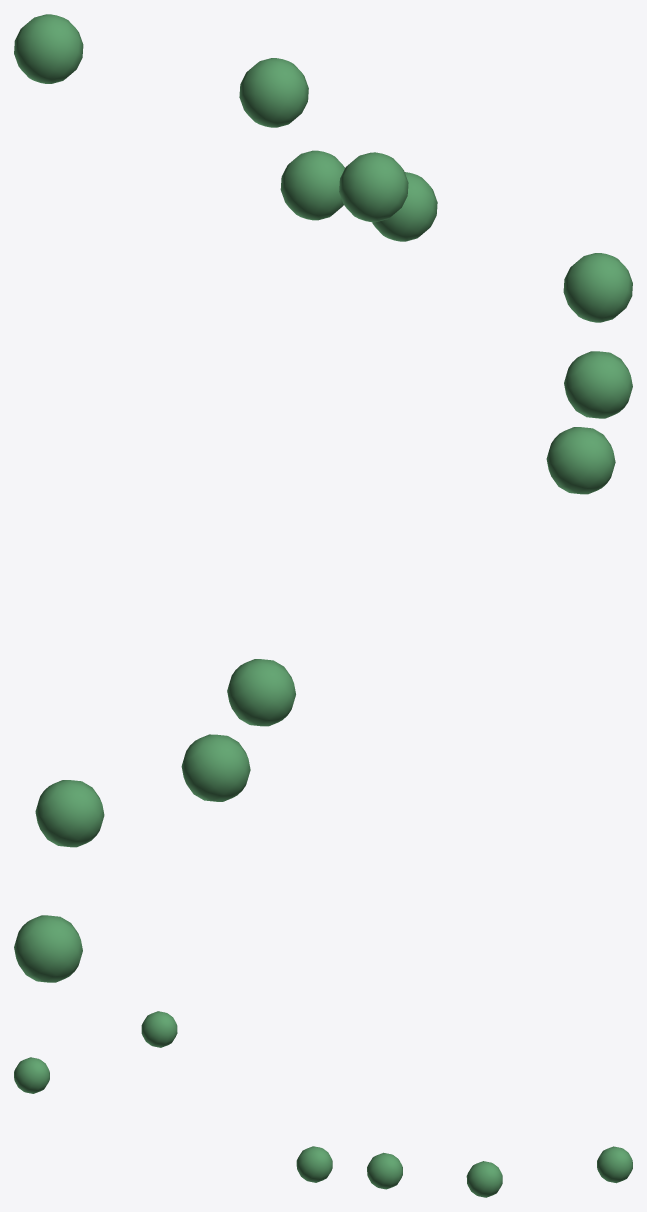
3 renders of one model, top to bottom at view 1: azimuth 30°, elevation 25°; view 2: azimuth 150°, elevation 25°; view 3: azimuth 270°, elevation 25°, orthographic. The views are drawn at different scales.
Visible parts, largest first — view 1: 右侧颈内静脉下段前淋巴结; view 2: 右侧颈内静脉下段前淋巴结; view 3: 右侧颈内静脉下段前淋巴结.
Boxes of the visible parts, box(x1,y1,x2,y2) form: 右侧颈内静脉下段前淋巴结: box(14, 14, 632, 322); 右侧颈内静脉下段前淋巴结: box(14, 351, 632, 982); 右侧颈内静脉下段前淋巴结: box(14, 1011, 632, 1197).
Bounding box in the file's own units: 0.017 × 0.0161 × 0.0642.
